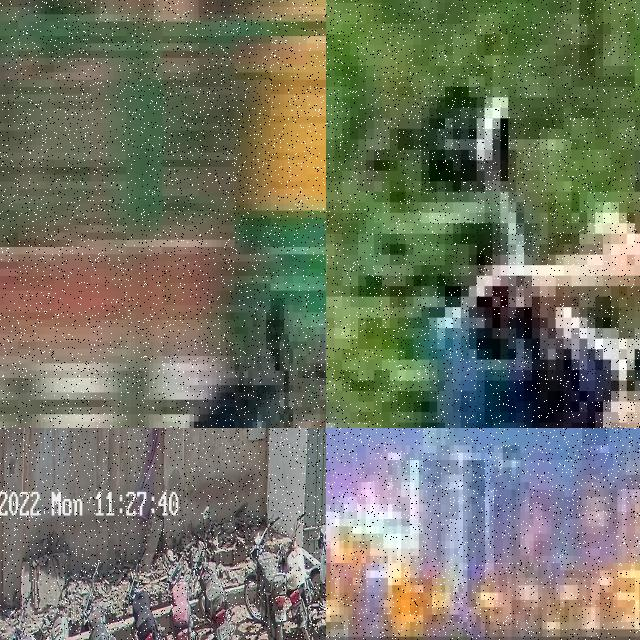bike: (326, 223, 640, 428), (0, 356, 326, 428), (188, 504, 238, 640), (243, 515, 288, 640), (276, 511, 317, 640), (125, 547, 168, 640), (79, 562, 125, 640), (166, 541, 199, 640), (39, 576, 78, 640), (310, 505, 326, 640), (12, 588, 39, 640)
